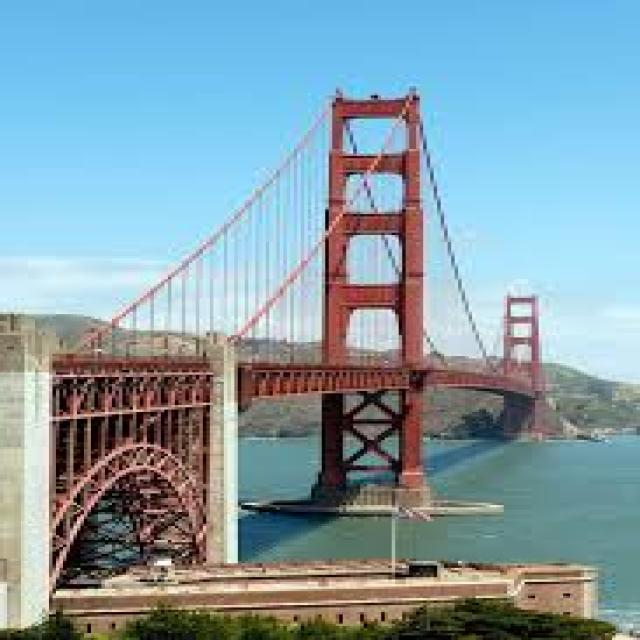Bridges: (4, 60, 585, 579)
